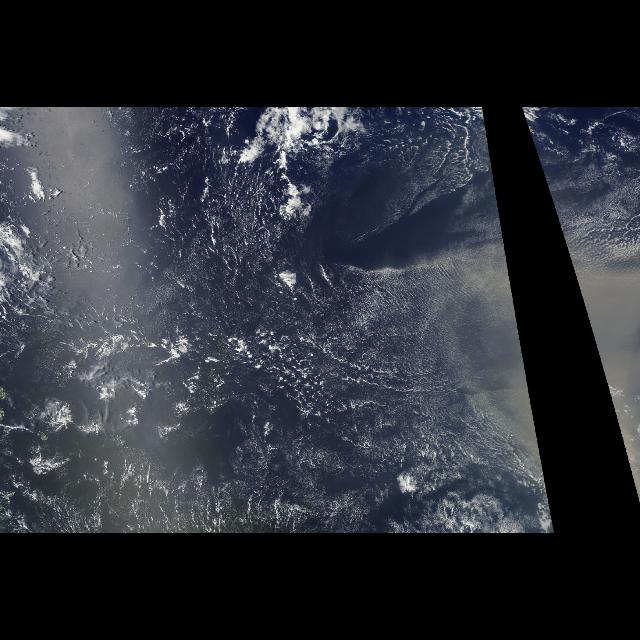Gravel: (120, 132, 326, 414)
Sugar: (203, 137, 553, 533), (530, 138, 640, 504)
